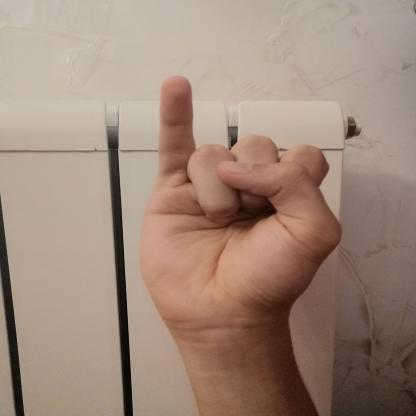MEEM: (110, 61, 366, 349)
